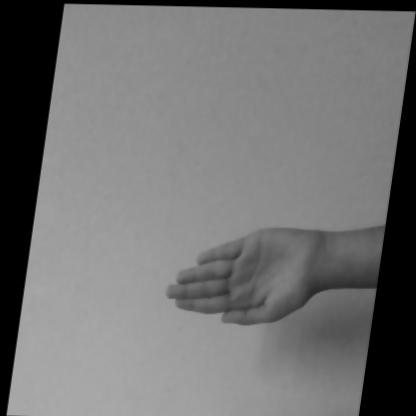palm: (142, 188, 355, 368)
